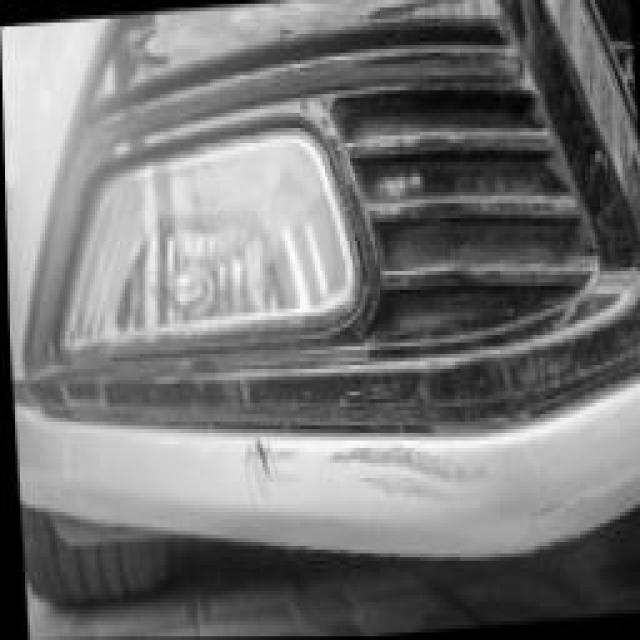Bumper: (198, 361, 590, 568)
